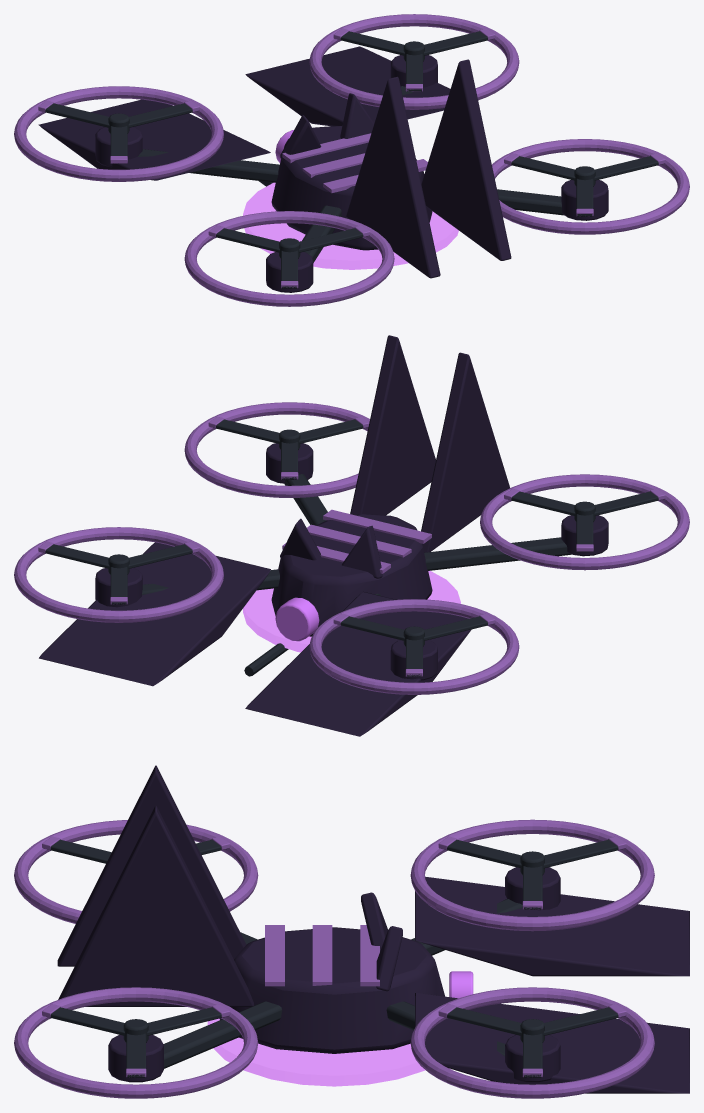
The model's file is katzen_nachtfalter.glb.
3 views of the same model, one above another, from view 1: azimuth 30°, elevation 25°; view 2: azimuth 150°, elevation 25°; view 3: azimuth 270°, elevation 25° (orthographic). The views are drawn at different scales.
Parts seen in each view (by area): view 1: cfin_1, cfin_-1, cwing_1, cwing_-1, guard_3, guard_1, guard_2, core, guard_0, glow_ring, rotor_r2, rotor_r1 (+14 smaller); view 2: cwing_1, cwing_-1, cfin_-1, cfin_1, core, guard_1, guard_0, guard_3, guard_2, glow_ring, rotor_r0, rotor_r3 (+13 smaller); view 3: cfin_1, cwing_-1, core, cwing_1, guard_0, guard_2, guard_1, cfin_-1, glow_ring, guard_3, rotor_r0, rotor_r2 (+13 smaller).
Part boxes in pixels (x1=…): cfin_1: x1=421, y1=59, x2=511, y2=260; cfin_-1: x1=346, y1=76, x2=440, y2=278; cwing_1: x1=245, y1=46, x2=450, y2=126; cwing_-1: x1=38, y1=99, x2=270, y2=180; guard_3: x1=184, y1=211, x2=394, y2=306; guard_1: x1=14, y1=86, x2=223, y2=181; guard_2: x1=492, y1=139, x2=689, y2=234; core: x1=271, y1=126, x2=432, y2=250; guard_0: x1=309, y1=14, x2=519, y2=109; glow_ring: x1=243, y1=182, x2=458, y2=269; rotor_r2: x1=504, y1=153, x2=665, y2=216; rotor_r1: x1=38, y1=100, x2=199, y2=163; cwing_1: x1=39, y1=542, x2=270, y2=686; cwing_-1: x1=245, y1=591, x2=471, y2=736; cfin_-1: x1=421, y1=352, x2=509, y2=552; cfin_1: x1=350, y1=335, x2=435, y2=515; core: x1=271, y1=514, x2=432, y2=636; guard_1: x1=309, y1=599, x2=519, y2=694; guard_0: x1=14, y1=527, x2=223, y2=622; guard_3: x1=480, y1=474, x2=689, y2=570; guard_2: x1=184, y1=402, x2=369, y2=497; glow_ring: x1=243, y1=571, x2=460, y2=652; rotor_r0: x1=38, y1=541, x2=199, y2=604; rotor_r3: x1=504, y1=488, x2=665, y2=551; cfin_1: x1=58, y1=806, x2=254, y2=1006; cwing_-1: x1=415, y1=876, x2=689, y2=976; core: x1=219, y1=927, x2=444, y2=1053; cwing_1: x1=415, y1=993, x2=689, y2=1093; guard_0: x1=410, y1=987, x2=654, y2=1098; guard_2: x1=14, y1=987, x2=258, y2=1098; guard_1: x1=410, y1=819, x2=654, y2=931; cfin_-1: x1=57, y1=765, x2=246, y2=966; glow_ring: x1=207, y1=1018, x2=425, y2=1086; guard_3: x1=14, y1=820, x2=258, y2=923; rotor_r0: x1=438, y1=1004, x2=626, y2=1077; rotor_r2: x1=42, y1=1004, x2=230, y2=1077.
Bounding box in the file's own units: 1.62 × 0.7035 × 1.7.
